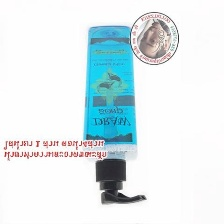cleaning_solution: (80, 21, 149, 209)
